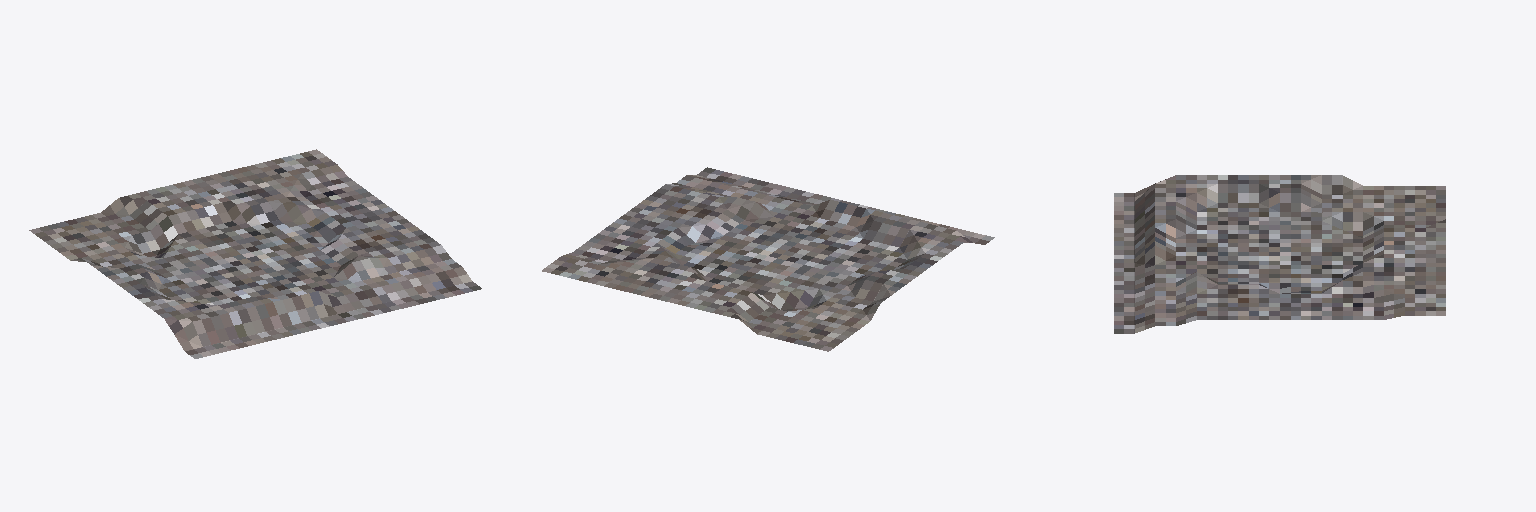
The picture shows the model from 3 angles: view 1: azimuth 30°, elevation 25°; view 2: azimuth 150°, elevation 25°; view 3: azimuth 270°, elevation 25°; orthographic projection.
Parts seen in each view (by area): view 1: Plane; view 2: Plane; view 3: Plane.
Part boxes in pixels (x1,y1,x2,y2): Plane: (29, 149, 481, 358); Plane: (542, 167, 994, 351); Plane: (1114, 175, 1445, 333).
Bounding box in the file's own units: 200 × 14.11 × 200.
Materials: 1 (1 with a texture image).